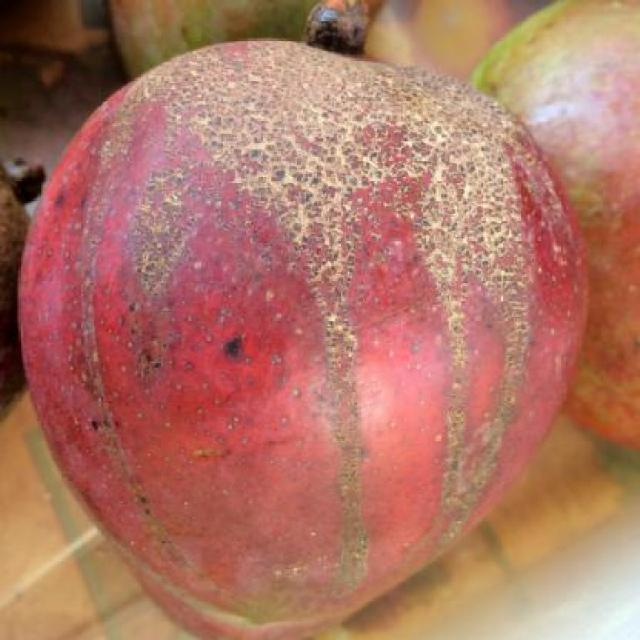Apple pie: (26, 17, 611, 634), (463, 0, 640, 452), (106, 0, 539, 82)
